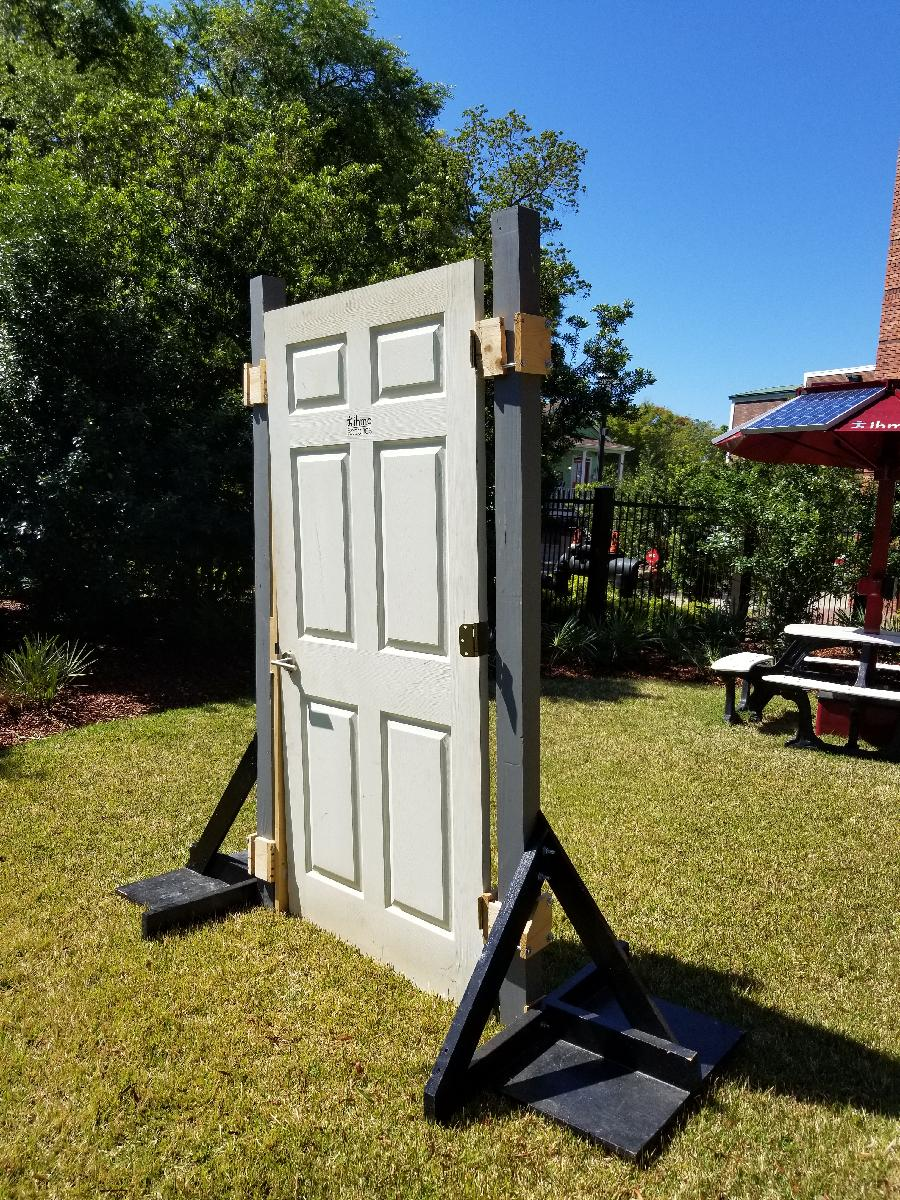door: (258, 255, 492, 1017)
doorHandle: (267, 649, 307, 676)
